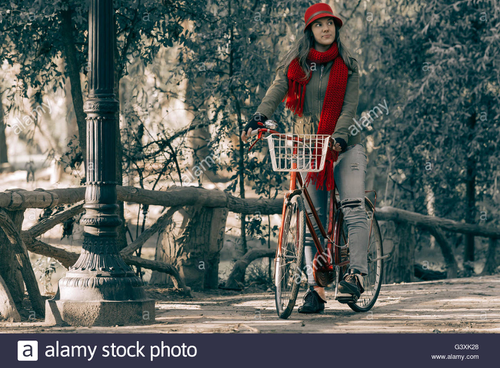bikerider: (256, 8, 400, 317)
